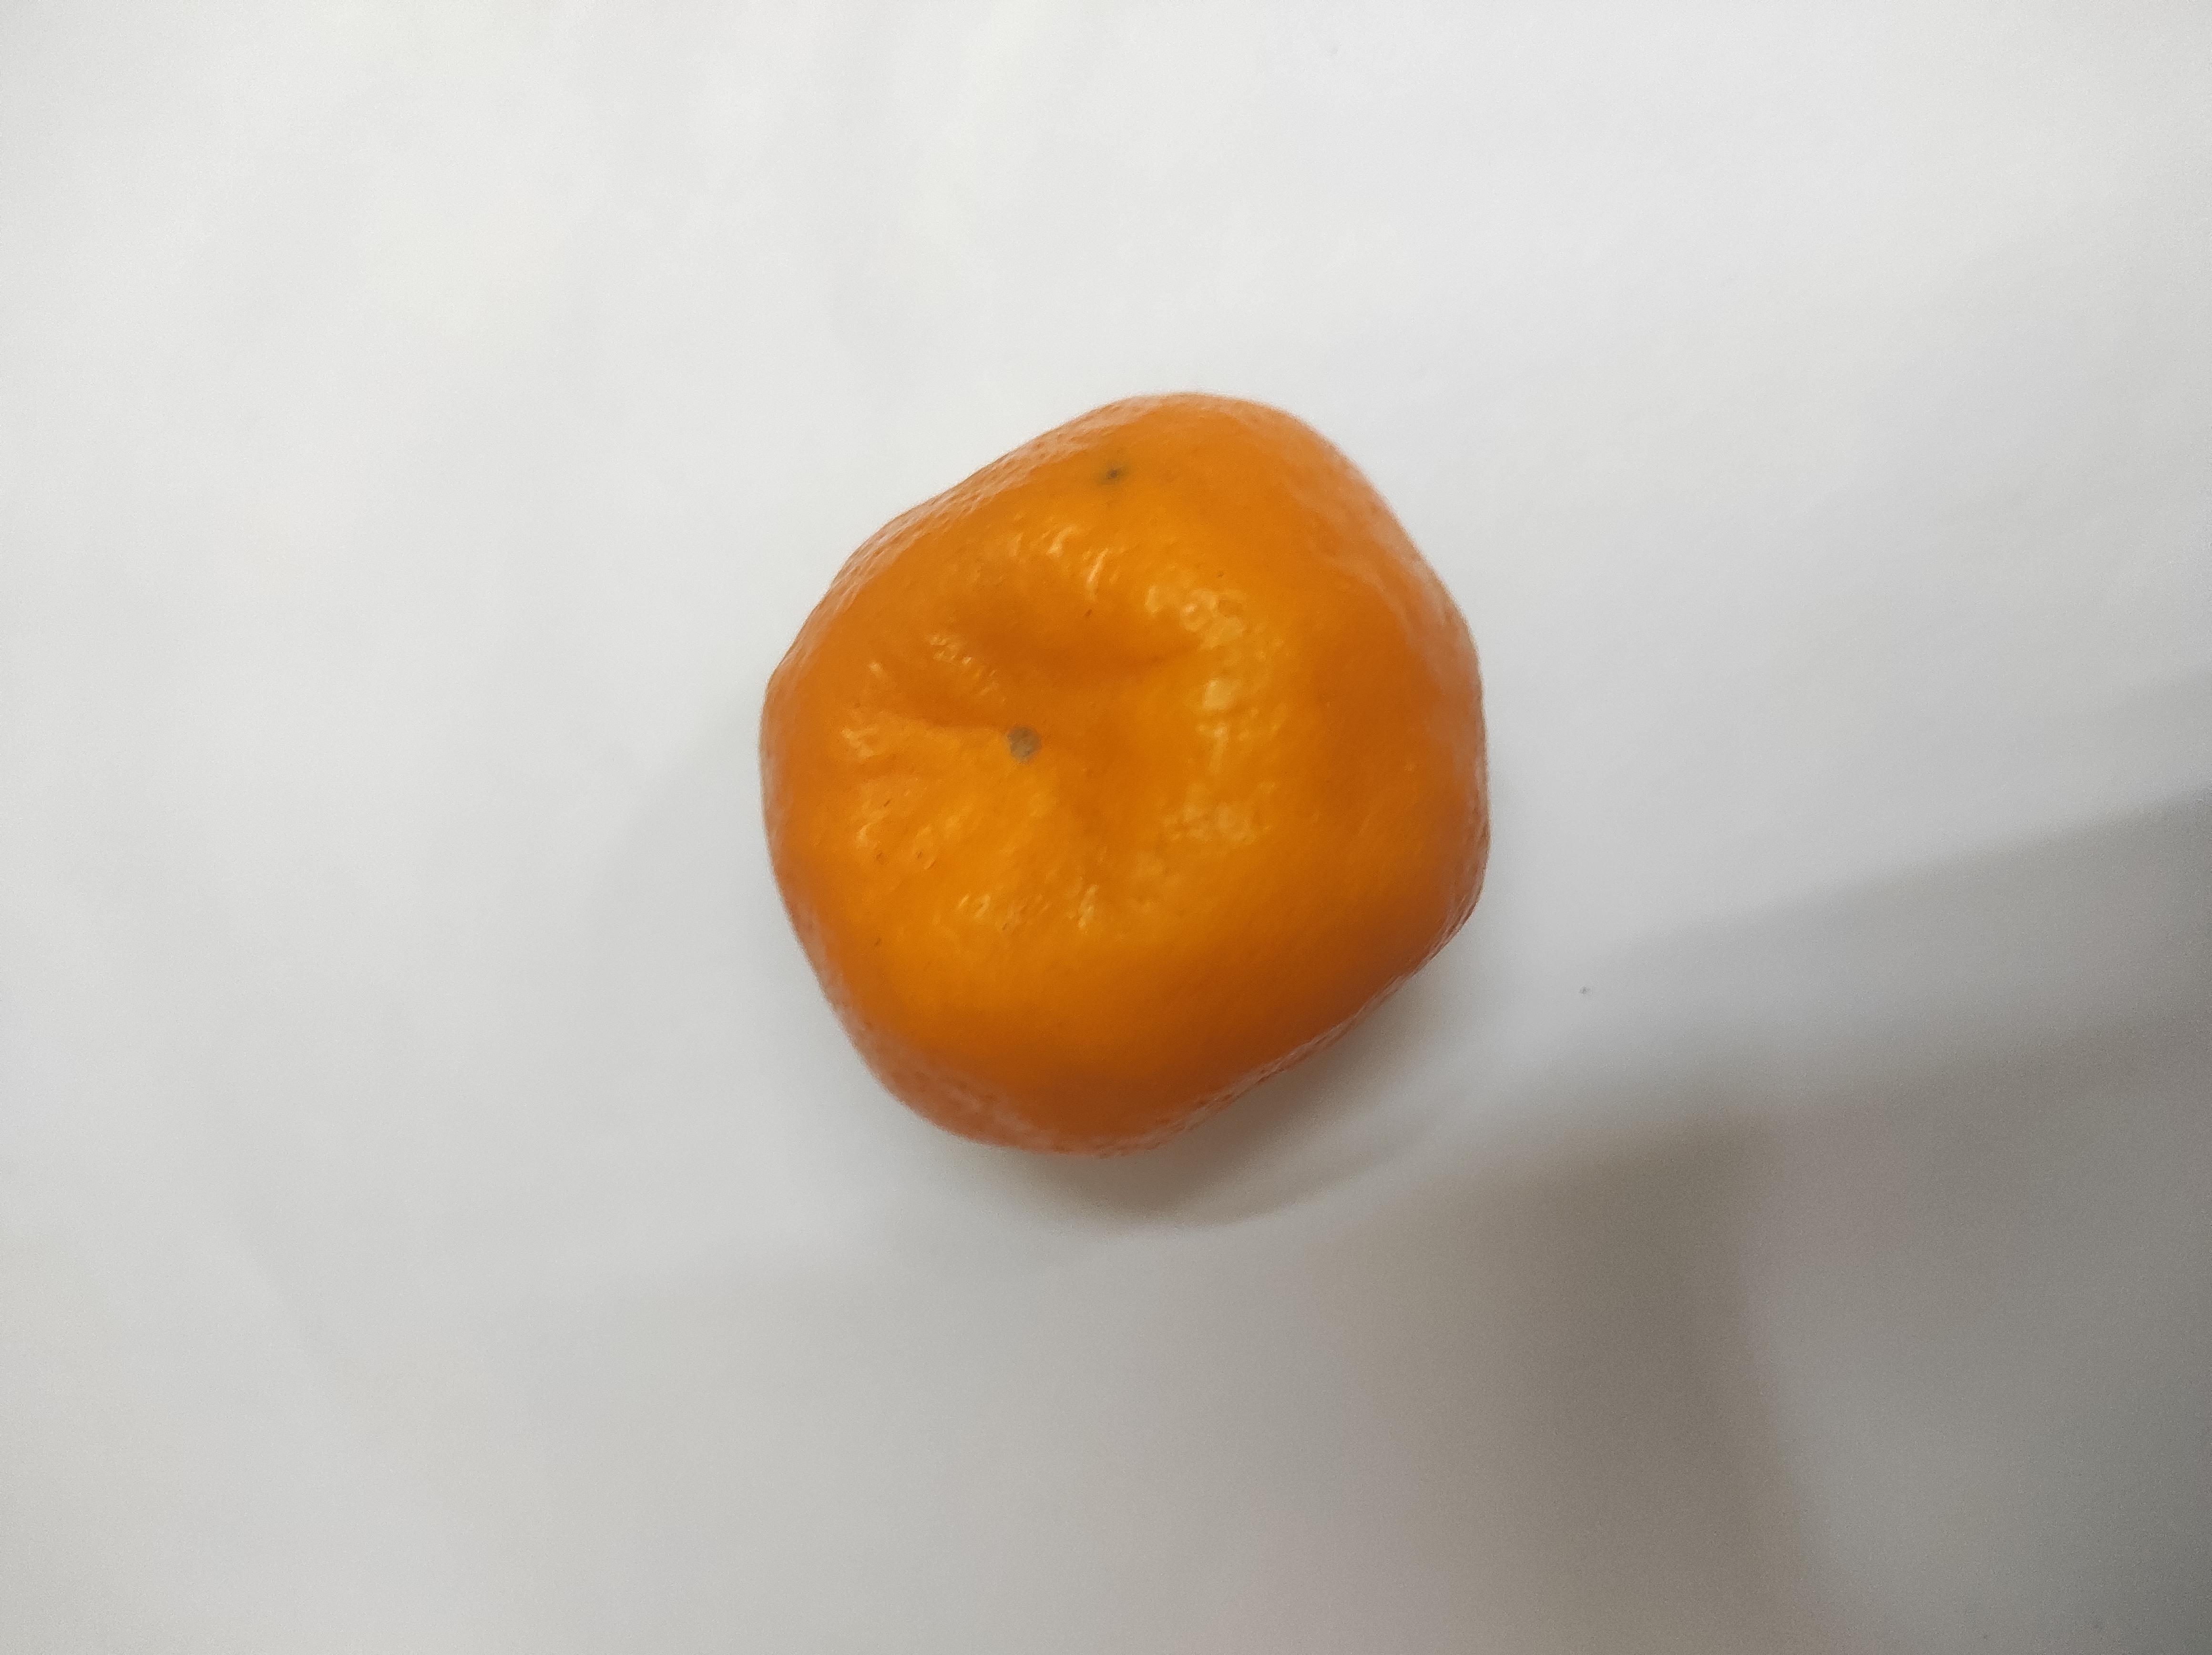Ripe: (650, 560, 1696, 1113)
